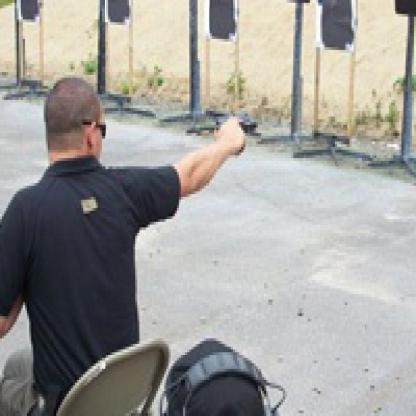gun: (206, 105, 256, 150)
